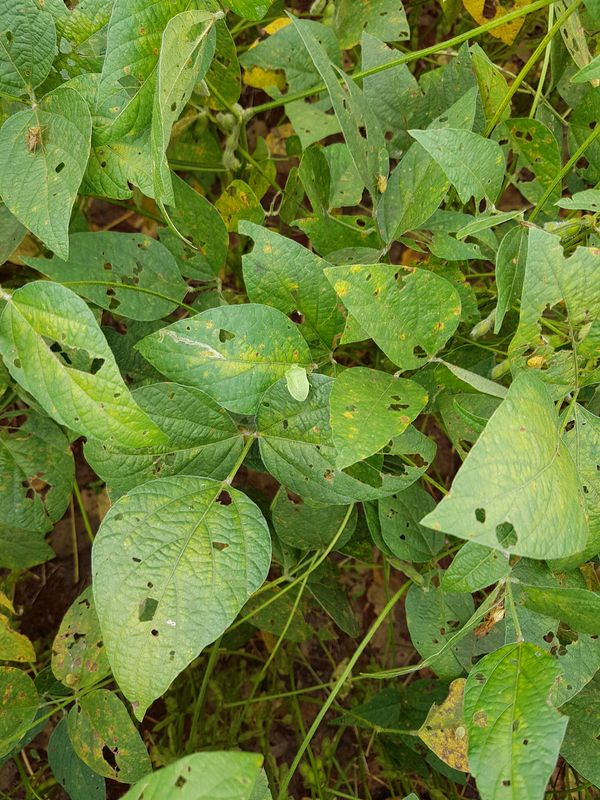Euschistus_heros_adulto: (21, 122, 52, 156), (487, 603, 508, 623), (473, 622, 494, 642)
Euschistus_heros_ninfa: (369, 172, 391, 197), (524, 352, 548, 374), (450, 724, 469, 744)
Nezara_viridula_adulto: (276, 359, 319, 408)
